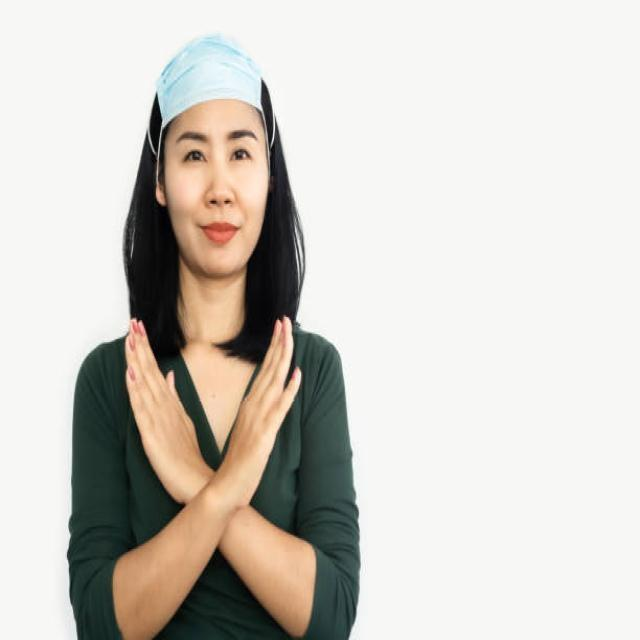no_hairnet: (157, 170, 269, 280)
